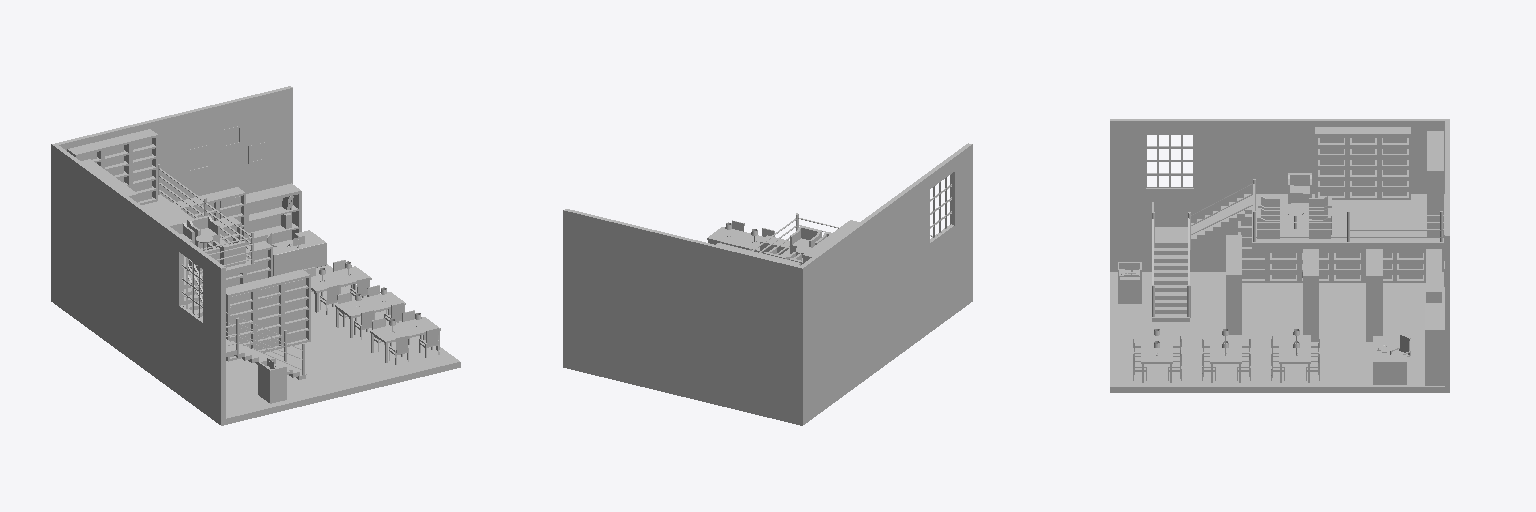
3 views of the same model, side by side, from view 1: azimuth 30°, elevation 25°; view 2: azimuth 150°, elevation 25°; view 3: azimuth 270°, elevation 25° (orthographic).
Parts seen in each view (by area): view 1: wall1_wall, floor1_floor, bookcases_Cube.036, table_and_chair_Cube.050, books_Cube.023, armchairs_Cube.002, balcony_Cube.014, stairway, pictures_Plane.010, mezzanine_Plane.012, table_computer_Plane.009, stairs_Cube.011 (+1 smaller); view 2: wall1_wall, floor1_floor, bookcases_Cube.036, window, table_and_chair_Cube.050, armchairs_Cube.002; view 3: floor1_floor, wall1_wall, bookcases_Cube.036, mezzanine_Plane.012, books_Cube.023, table_and_chair_Cube.050, stairs_Cube.011, armchairs_Cube.002, stairway, window, balcony_Cube.014, pictures_Plane.010 (+2 smaller).
Boxes of the visible parts, <box> form: wall1_wall: <box>51,86,292,419</box>; floor1_floor: <box>51,264,460,425</box>; bookcases_Cube.036: <box>67,129,310,361</box>; table_and_chair_Cube.050: <box>304,260,440,364</box>; books_Cube.023: <box>78,139,305,356</box>; armchairs_Cube.002: <box>168,215,245,273</box>; balcony_Cube.014: <box>273,230,326,275</box>; stairway: <box>159,168,302,369</box>; pictures_Plane.010: <box>188,126,265,172</box>; mezzanine_Plane.012: <box>141,194,254,284</box>; table_computer_Plane.009: <box>258,358,289,403</box>; stairs_Cube.011: <box>184,281,306,379</box>; wall1_wall: <box>563,143,972,419</box>; floor1_floor: <box>563,296,972,425</box>; bookcases_Cube.036: <box>716,220,859,265</box>; window: <box>929,169,955,245</box>; table_and_chair_Cube.050: <box>707,220,774,252</box>; armchairs_Cube.002: <box>764,226,831,264</box>; floor1_floor: <box>1110,272,1449,392</box>; wall1_wall: <box>1110,119,1449,386</box>; bookcases_Cube.036: <box>1226,127,1444,385</box>; mezzanine_Plane.012: <box>1252,194,1444,248</box>; books_Cube.023: <box>1241,136,1422,278</box>; table_and_chair_Cube.050: <box>1133,333,1319,382</box>; stairs_Cube.011: <box>1152,194,1251,321</box>; armchairs_Cube.002: <box>1257,173,1331,238</box>; stairway: <box>1152,183,1444,284</box>; window: <box>1144,133,1196,190</box>; balcony_Cube.014: <box>1373,336,1406,384</box>; pictures_Plane.010: <box>1207,141,1444,286</box>.
Size of the model in its own units: 8.66 by 5.45 by 10.66.